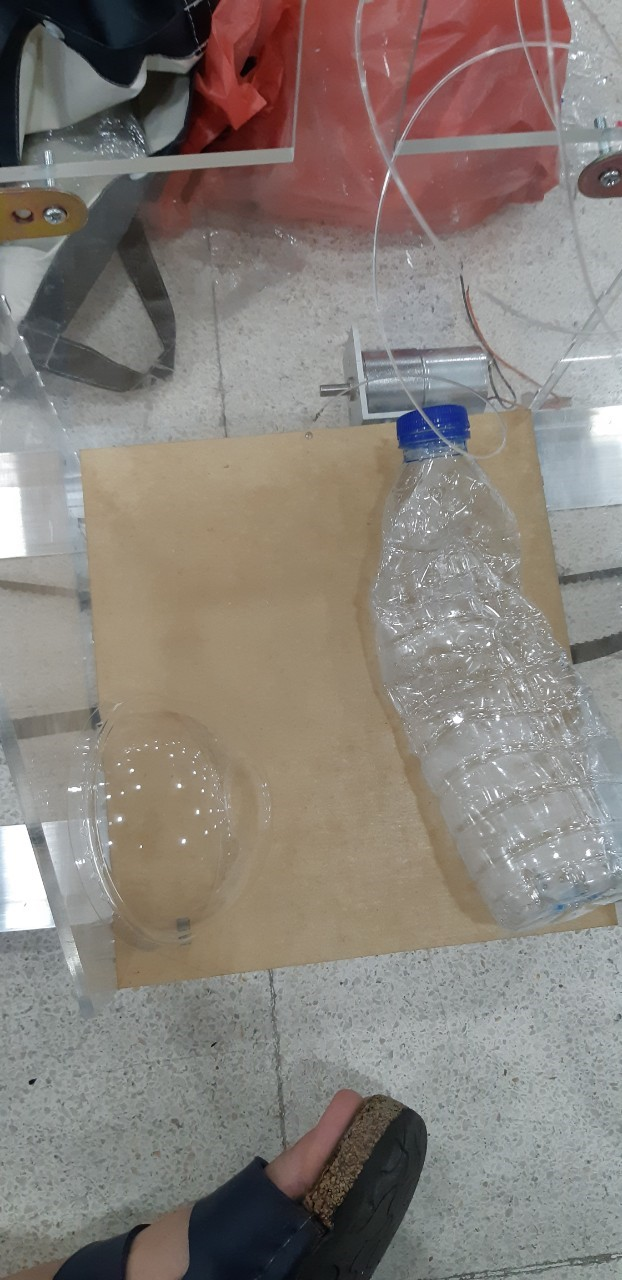PlasticBottle: (368, 411, 622, 942)
